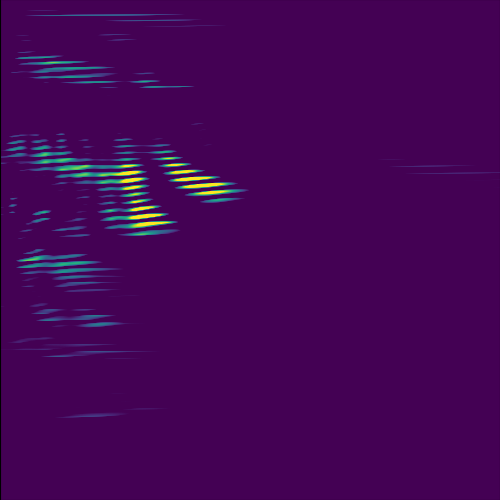semblance: (115, 153, 172, 237), (58, 158, 101, 179)
